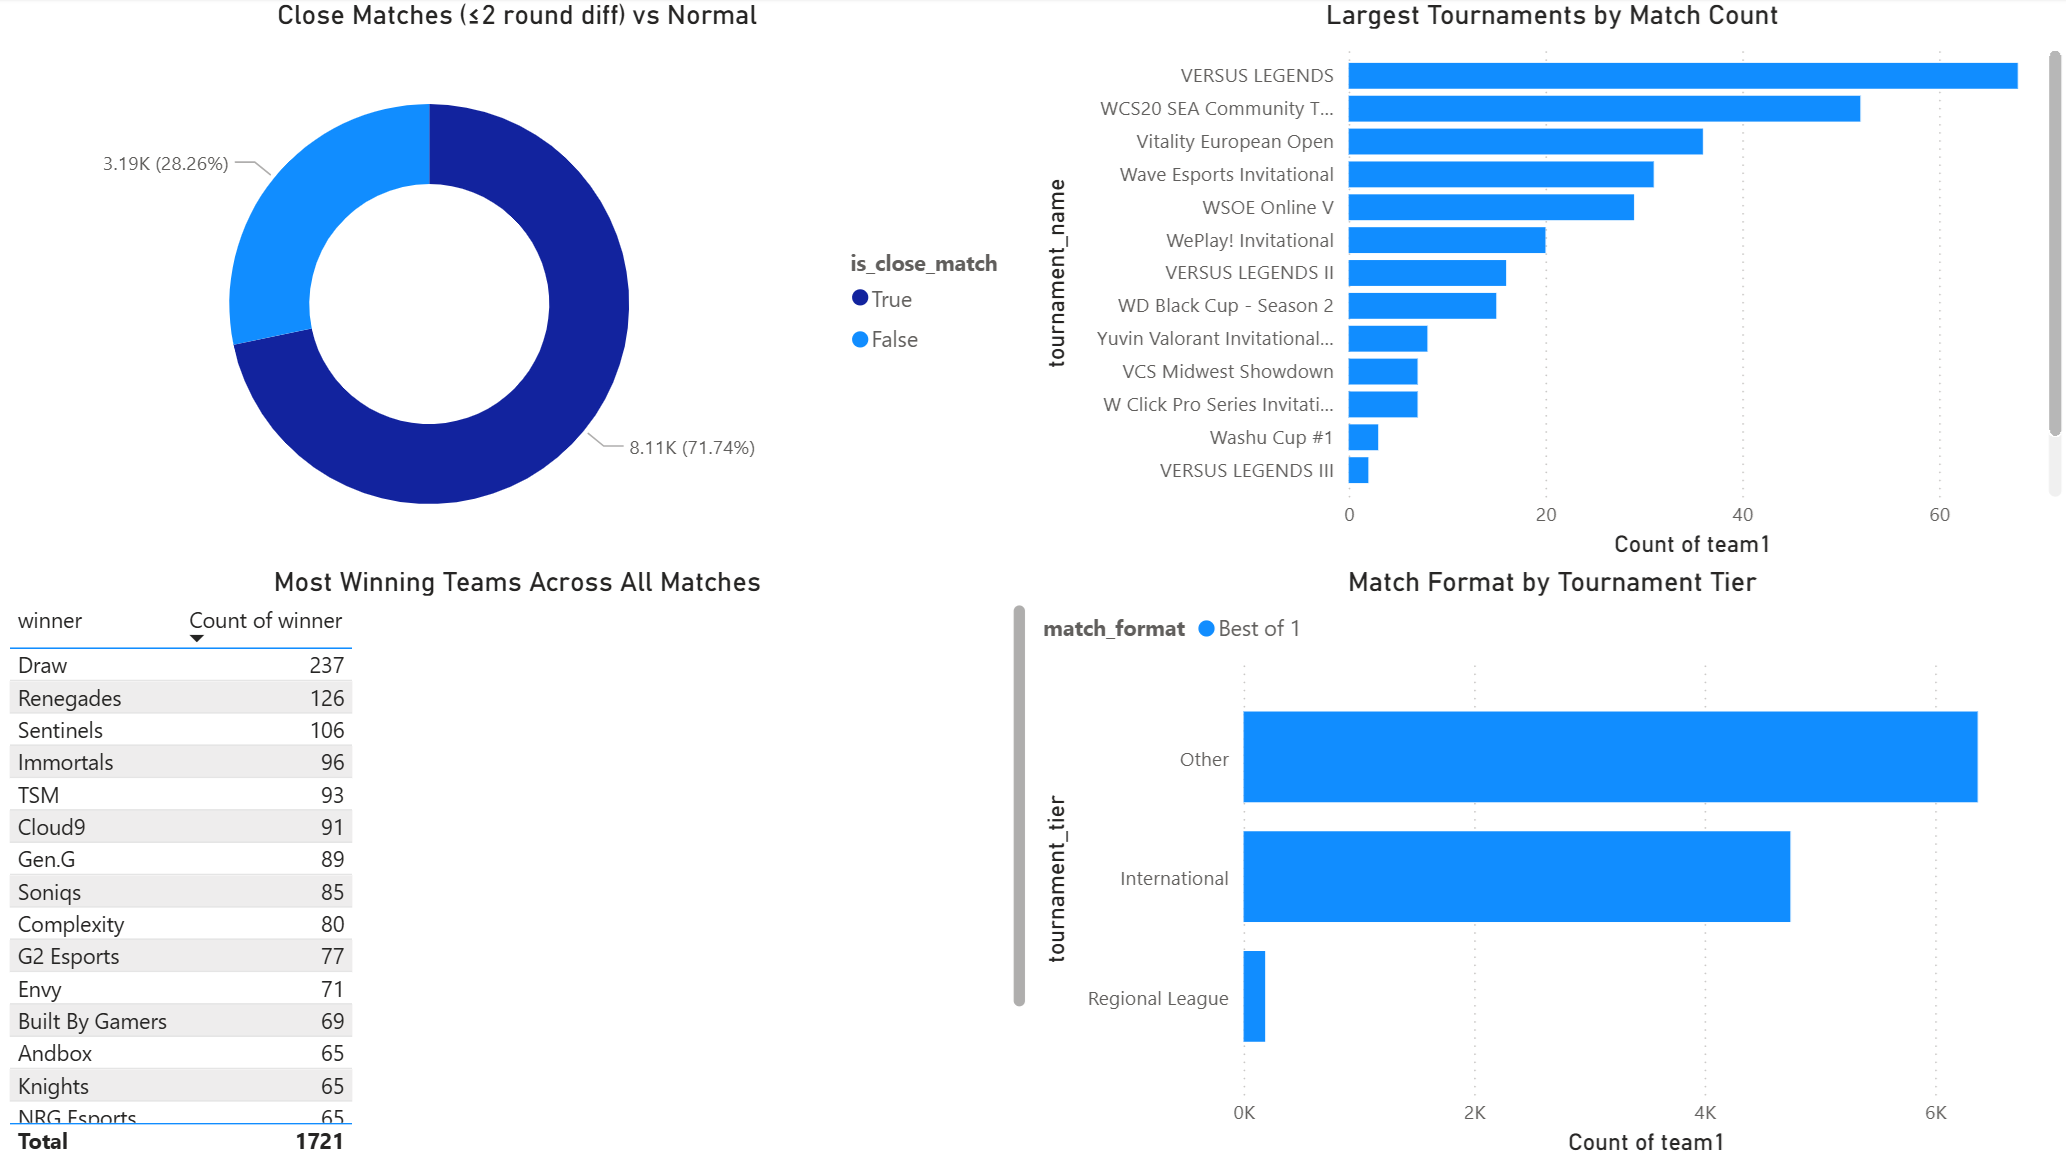

The page's visual inventory and layout, read from the dashboard file:
{"tool":"powerbi","page":{"name":"Match Insights","canvas":[1280,720],"ordinal":2},"visuals":[{"type":"donutChart","title":"Close Matches (≤2 round diff) vs Normal","fields":{"Category":["results_enriched.is_close_match"],"Y":["CountNonNull(results_enriched.team1)"]},"box":[0,0,640,359.6],"z":0},{"type":"barChart","title":"Largest Tournaments by Match Count","fields":{"Category":["results_enriched.tournament_name"],"Y":["CountNonNull(results_enriched.team1)"]},"box":[640,0,640,350.4],"z":1000},{"type":"tableEx","title":"Most Winning Teams Across All Matches","fields":{"Values":["results_enriched.winner","CountNonNull(results_enriched.winner)"]},"box":[0,350.4,640,370],"z":2000},{"type":"barChart","title":"Match Format by Tournament Tier","fields":{"Category":["results_enriched.tournament_tier"],"Y":["CountNonNull(results_enriched.team1)"],"Series":["results_enriched.match_format"]},"box":[640,350.4,640,370],"z":3000}]}

Visuals, with their boxes in screenshot pixels (x1, y1, x2, y2), scaled from the page's 1280x720 canvas onto the 2066x1161 screenshot:
"Close Matches (≤2 round diff) vs Normal" donutChart: 0/0/1033/580
"Largest Tournaments by Match Count" barChart: 1033/0/2065/565
"Most Winning Teams Across All Matches" tableEx: 0/565/1033/1160
"Match Format by Tournament Tier" barChart: 1033/565/2065/1160
